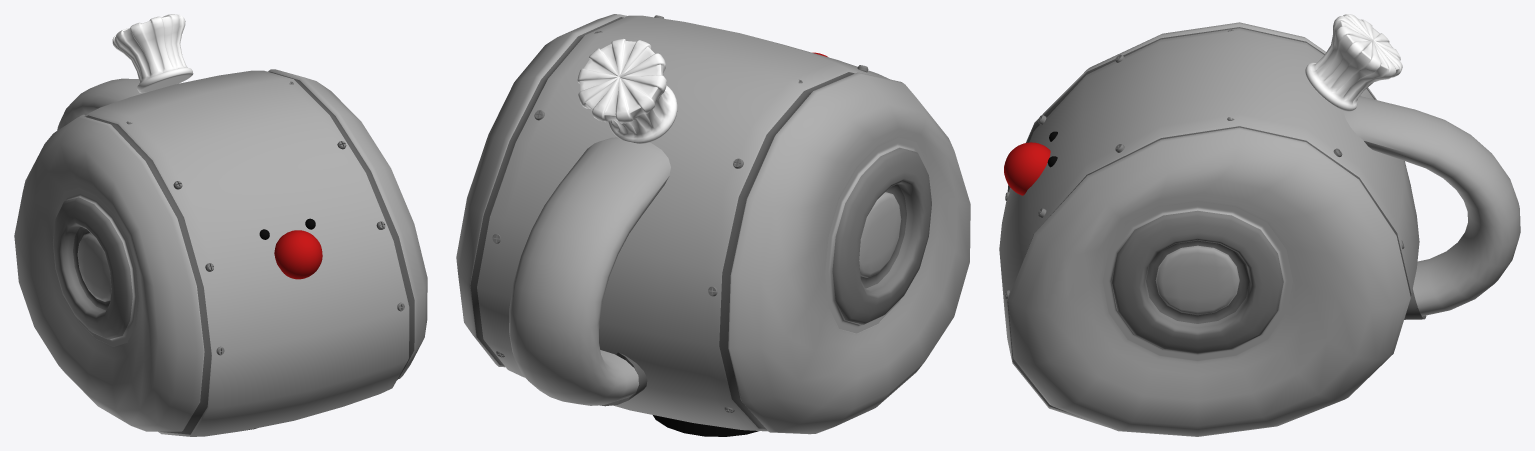
The model's file is robot body.fbx.
3 renders of one model, left to right at view 1: azimuth 30°, elevation 25°; view 2: azimuth 150°, elevation 25°; view 3: azimuth 270°, elevation 25°, orthographic. The views are drawn at different scales.
Parts seen in each view (by area): view 1: pCube1, chef_hat1, nose, pTorus4; view 2: pCube1, pTorus4, chef_hat1, pCylinder3; view 3: pCube1, pTorus4, chef_hat1, nose.
Boxes of the visible parts, x1=… form: pCube1: x1=14, y1=69, x2=427, y2=436; chef_hat1: x1=112, y1=14, x2=193, y2=92; nose: x1=274, y1=230, x2=322, y2=279; pTorus4: x1=57, y1=78, x2=143, y2=130; pCube1: x1=456, y1=14, x2=970, y2=434; pTorus4: x1=509, y1=137, x2=670, y2=406; chef_hat1: x1=577, y1=38, x2=677, y2=143; pCylinder3: x1=653, y1=415, x2=758, y2=436; pCube1: x1=999, y1=22, x2=1419, y2=436; pTorus4: x1=1343, y1=96, x2=1520, y2=319; chef_hat1: x1=1305, y1=14, x2=1402, y2=111; nose: x1=1004, y1=142, x2=1050, y2=195.
Size of the model in its own units: 63.57 by 75.05 by 92.54.
